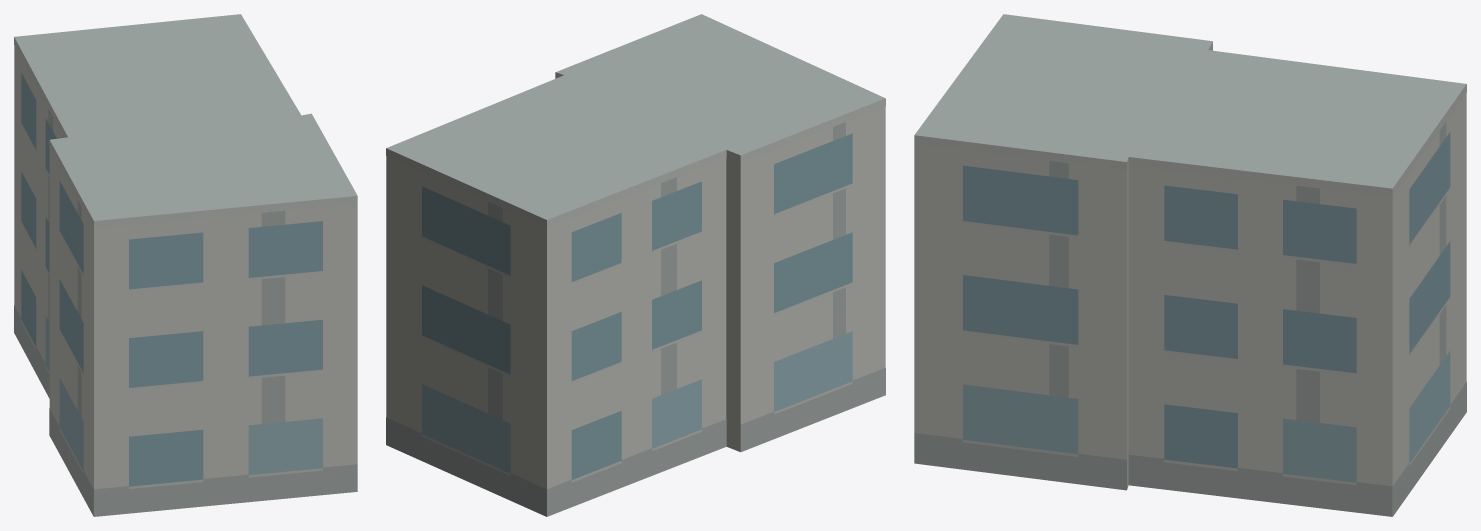
The model's file is survey-upis-32527807.glb.
3 views of the same model, side by side, from view 1: azimuth 30°, elevation 25°; view 2: azimuth 150°, elevation 25°; view 3: azimuth 270°, elevation 25° (orthographic). The views are drawn at different scales.
Parts seen in each view (by area): view 1: survey-upis-32527807.tmp; view 2: survey-upis-32527807.tmp; view 3: survey-upis-32527807.tmp.
Part boxes in pixels (x1,y1,x2,y2): survey-upis-32527807.tmp: (14, 14, 357, 516); survey-upis-32527807.tmp: (386, 14, 885, 516); survey-upis-32527807.tmp: (914, 14, 1466, 516).
Size of the model in its own units: 10.45 by 9.15 by 13.97.
